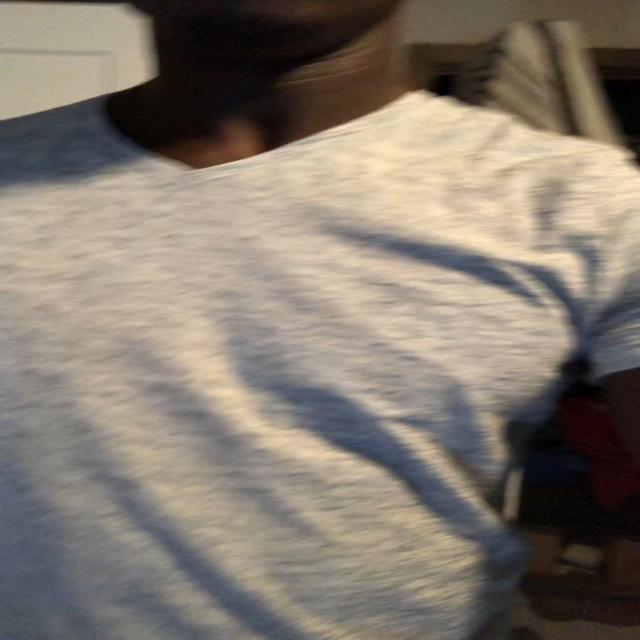face: (126, 0, 411, 48)
